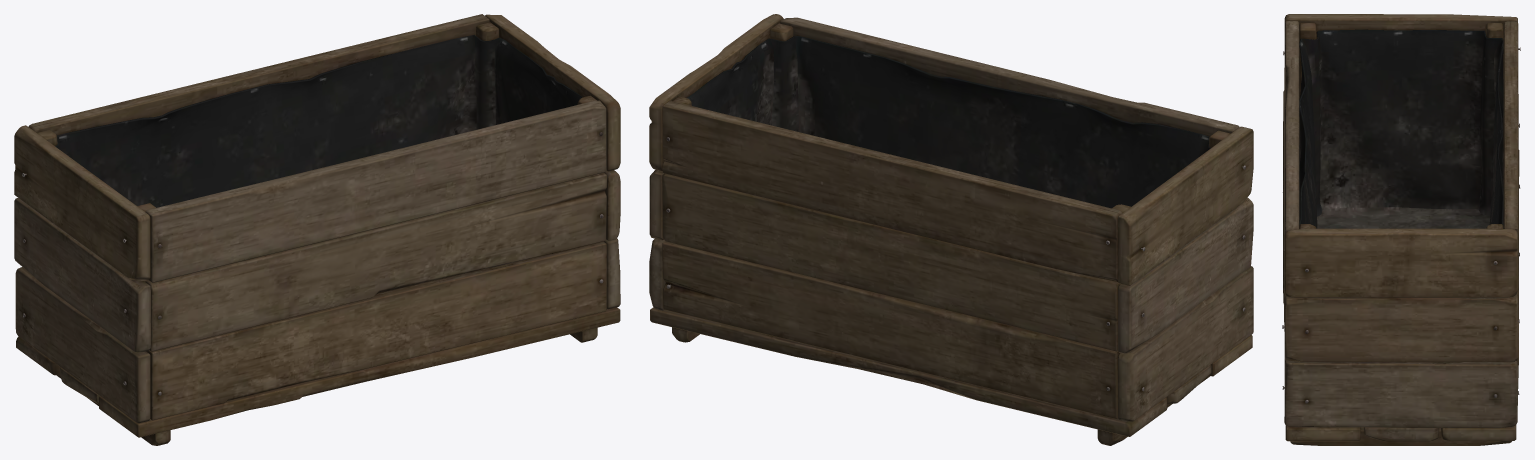
The model's file is planter_box_01.glb.
3 views of the same model, side by side, from view 1: azimuth 30°, elevation 25°; view 2: azimuth 150°, elevation 25°; view 3: azimuth 270°, elevation 25° (orthographic). The views are drawn at different scales.
Parts seen in each view (by area): view 1: planter_box_01; view 2: planter_box_01; view 3: planter_box_01.
Part boxes in pixels (x1,y1,x2,y2): planter_box_01: (14,14,620,445); planter_box_01: (649,14,1253,445); planter_box_01: (1282,14,1520,445).
Bounding box in the file's own units: 0.9126 × 0.425 × 0.4137.
Materials: 1 (1 with a texture image).
